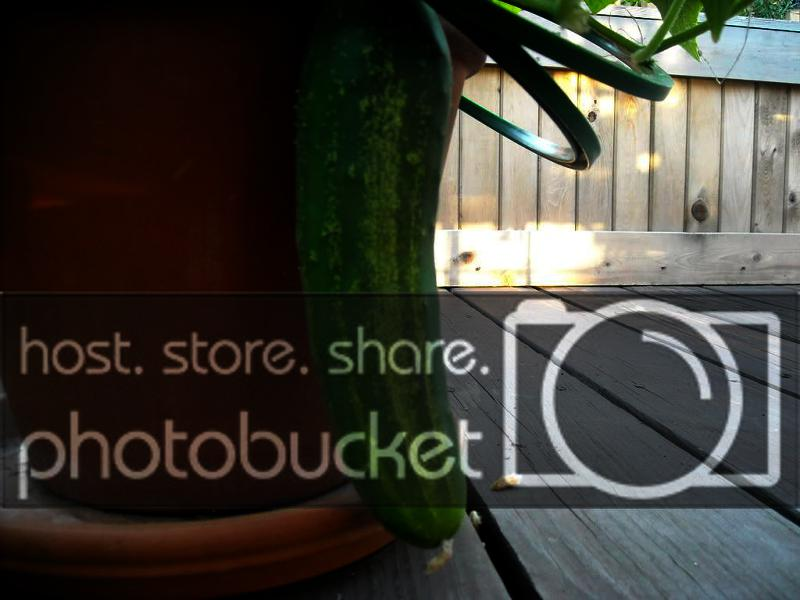Cucumber: (295, 5, 466, 572)
